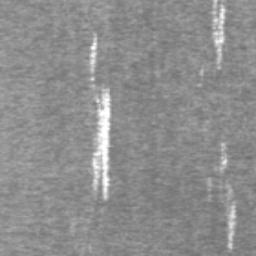White rust: (91, 89, 111, 199), (212, 5, 226, 64), (228, 205, 236, 249), (89, 36, 97, 73), (221, 156, 227, 166)
